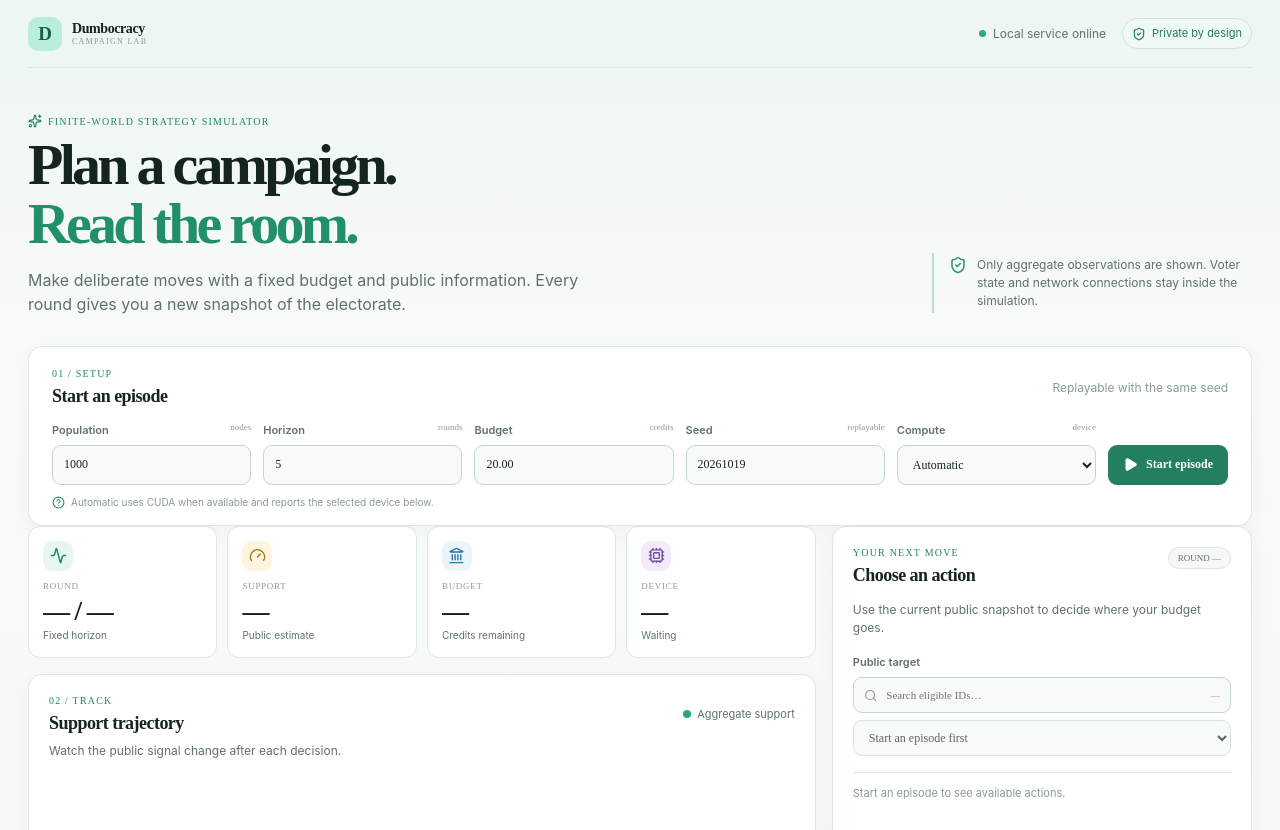
Dumbocracy React campaign UI › plays a complete episode, displays the result, and resets reproducibly
Expected: the text "Local service online" is shown, x1=979 y1=24 x2=1106 y2=42
Click the button "Start episode" at (1168, 465), box x1=1108 y1=445 x2=1228 y2=485
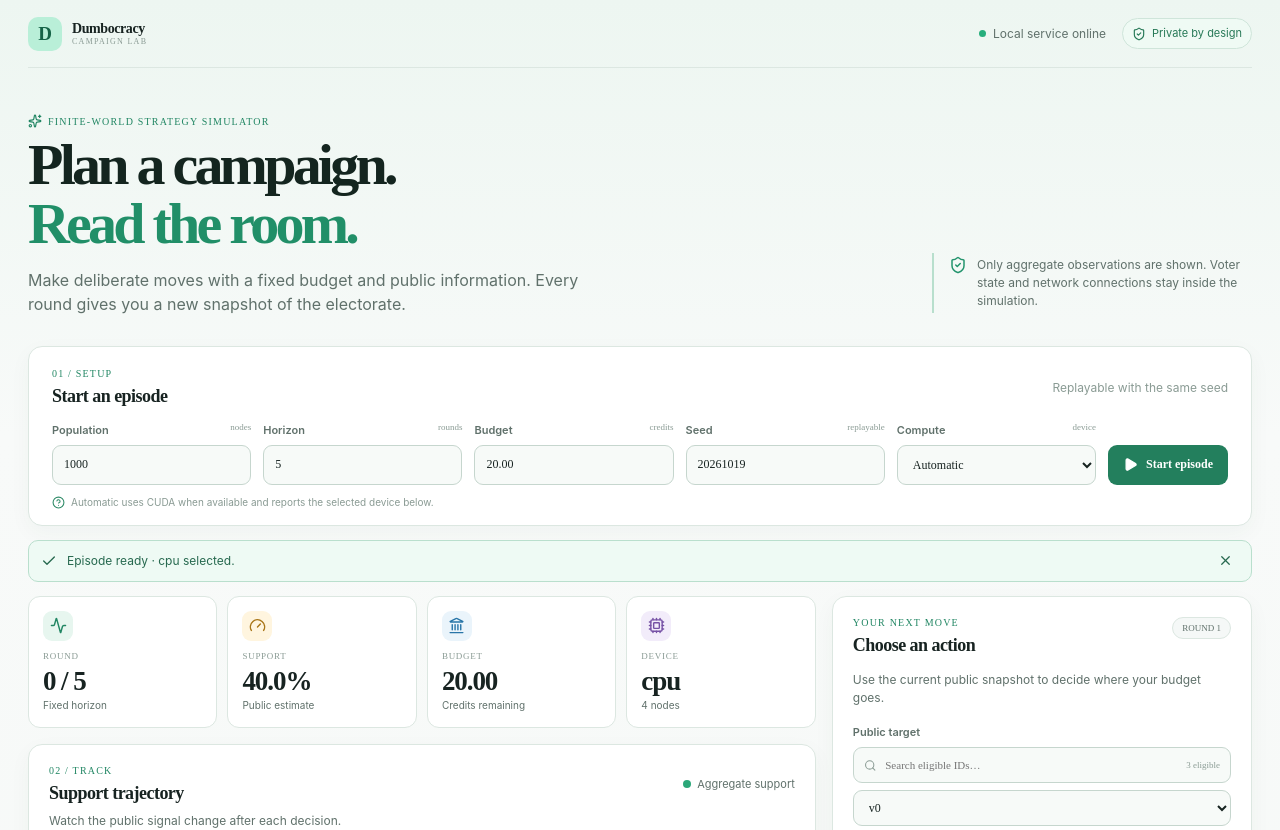
Now the text "Episode ready · cpu selected." is shown, box x1=67 y1=552 x2=235 y2=570
Now the text "0 / 5" is shown, box x1=43 y1=666 x2=86 y2=696
Now the text "40.0%" is shown, box x1=242 y1=666 x2=311 y2=696
Select "v1" in the dropdown named "Choose a public target ID" at (1042, 808), box x1=853 y1=790 x2=1231 y2=826
(page scrolled)
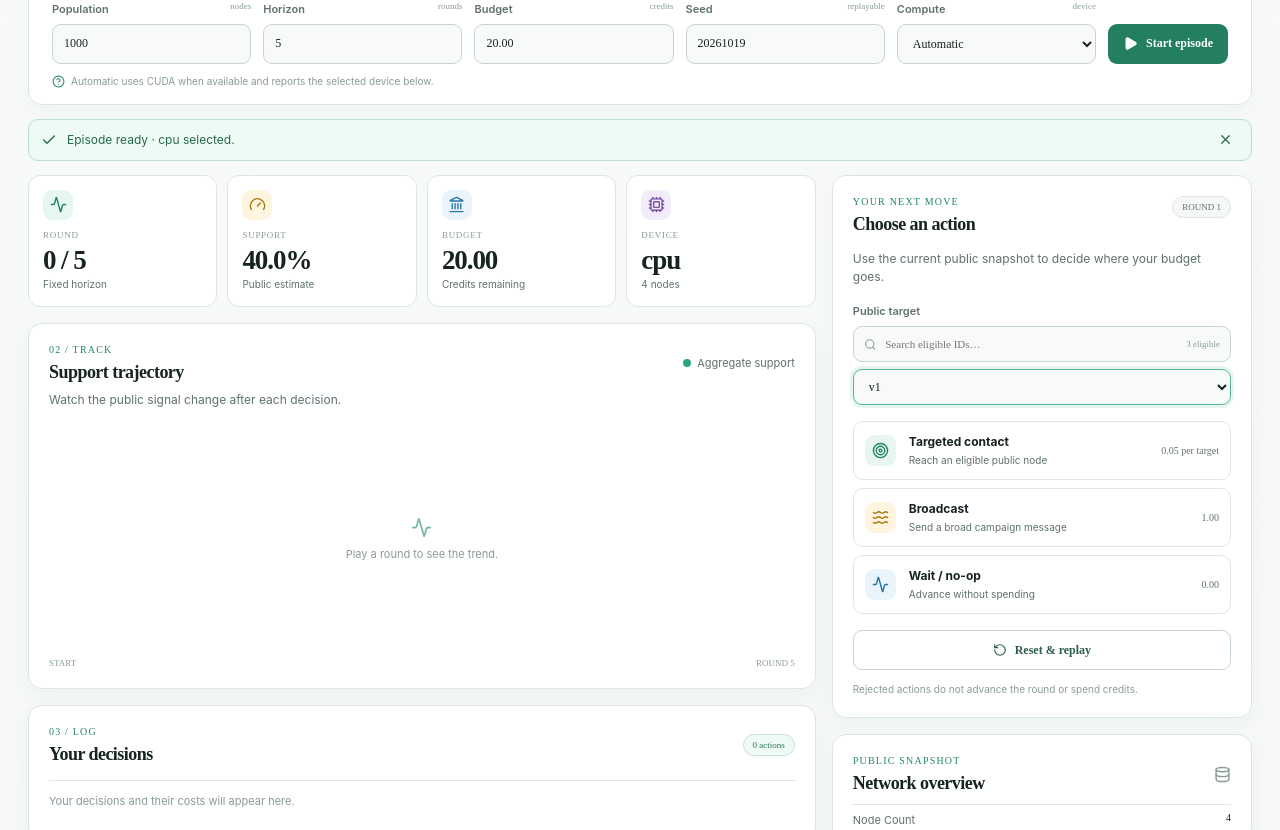
Click the button "Targeted contact" at (880, 451), box x1=853 y1=421 x2=1231 y2=480
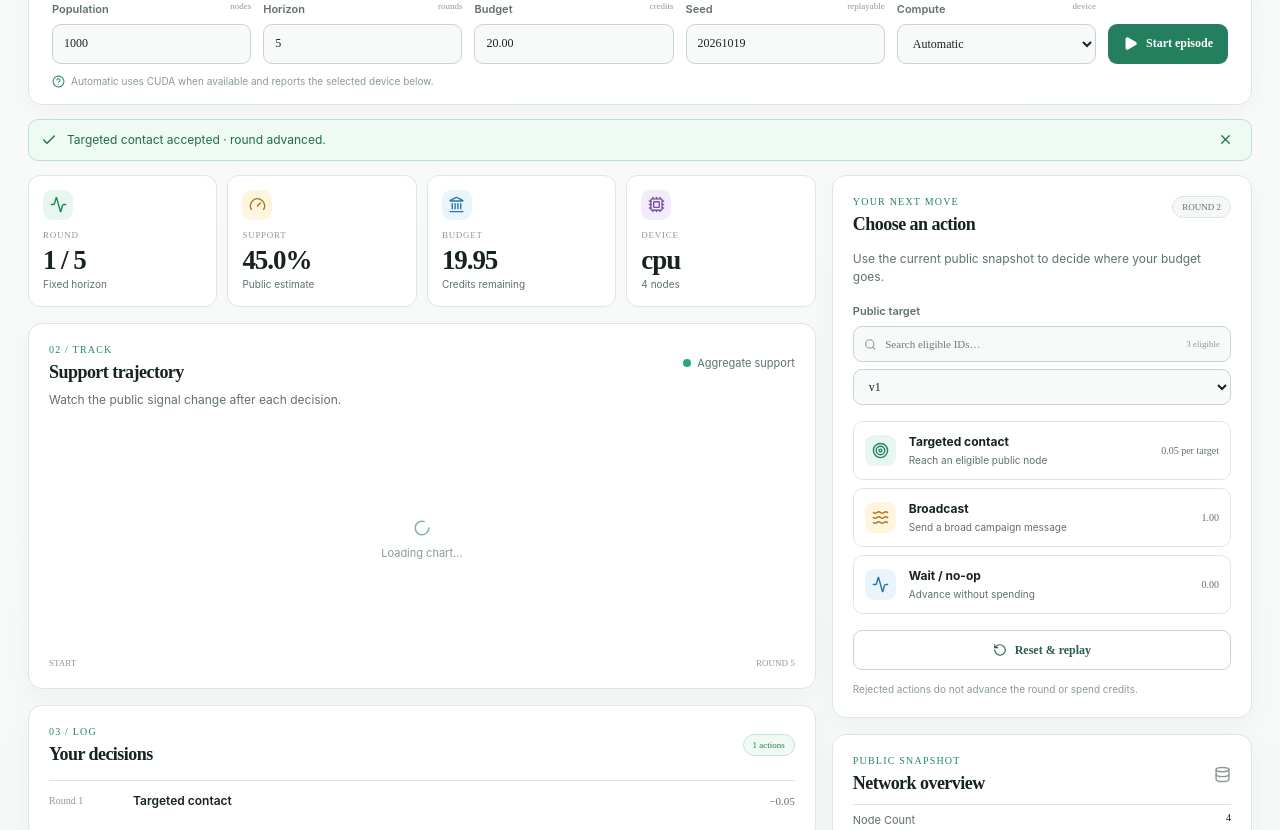
Now the text "1 / 5" is shown, box x1=43 y1=245 x2=86 y2=275
Now the text "19.95" is shown, box x1=442 y1=245 x2=497 y2=275
Click the button "Wait / no-op Advance without spending 0.00" at (880, 585), box x1=853 y1=555 x2=1231 y2=614
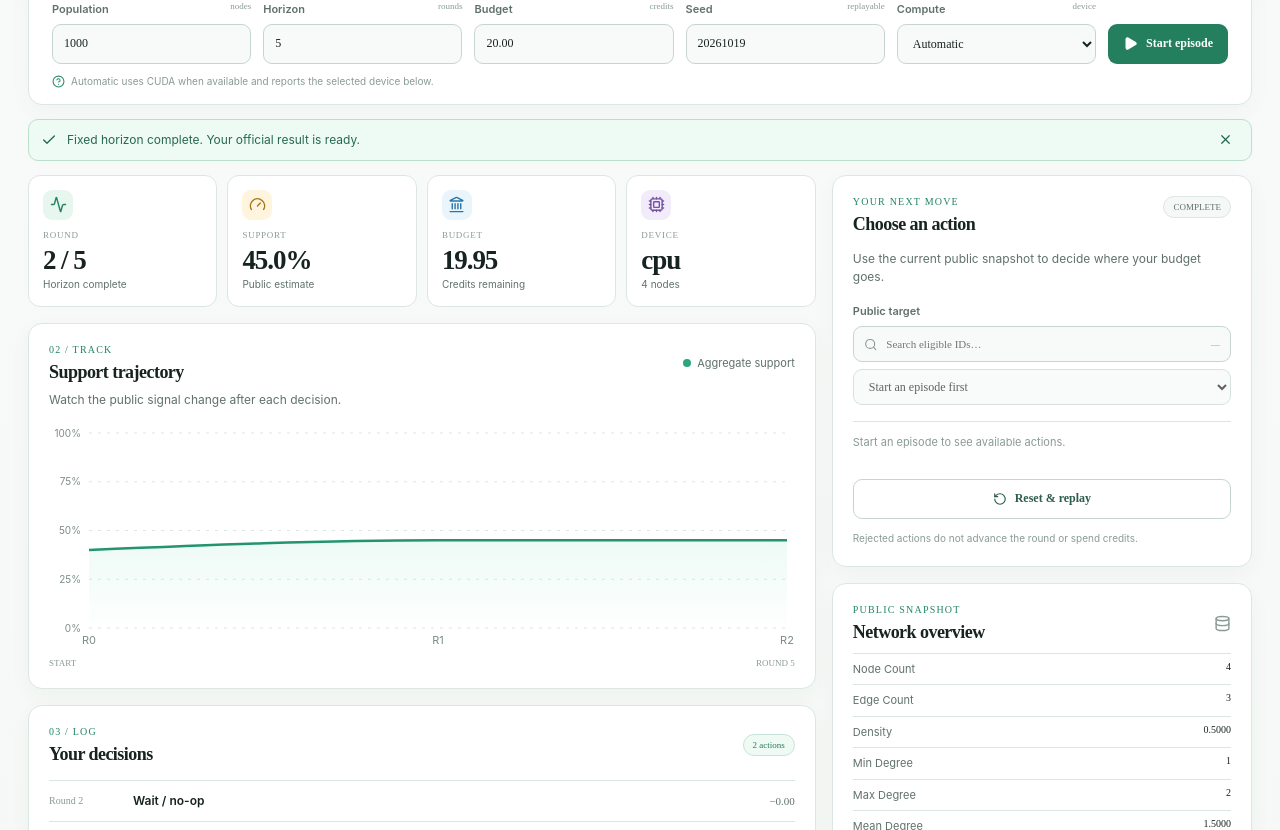
Click the button "Reset & replay" at (1042, 499), box x1=853 y1=479 x2=1231 y2=519
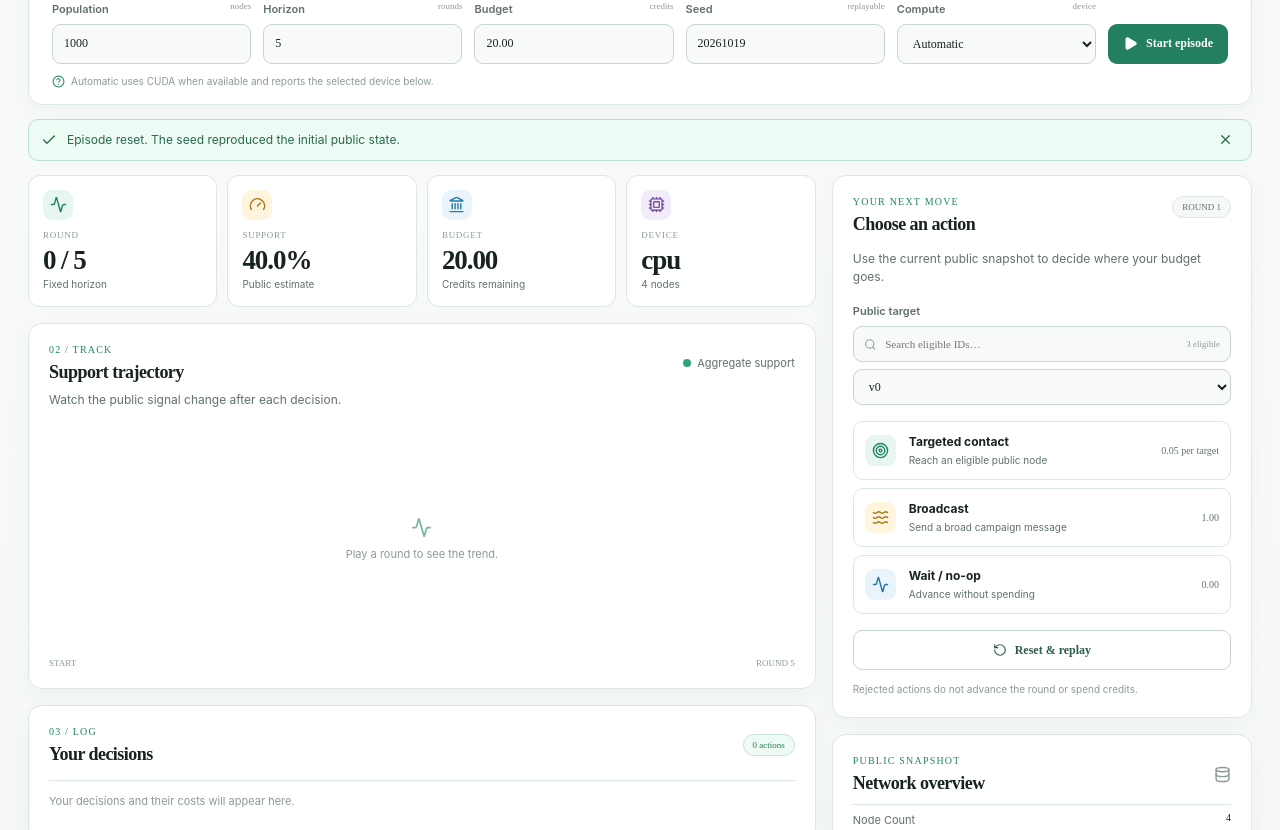
Now the text "0 / 5" is shown, box x1=43 y1=245 x2=86 y2=275
Now the text "40.0%" is shown, box x1=242 y1=245 x2=311 y2=275
Now the text "Episode reset. The seed reproduced the initial public state." is shown, box x1=67 y1=131 x2=400 y2=149
